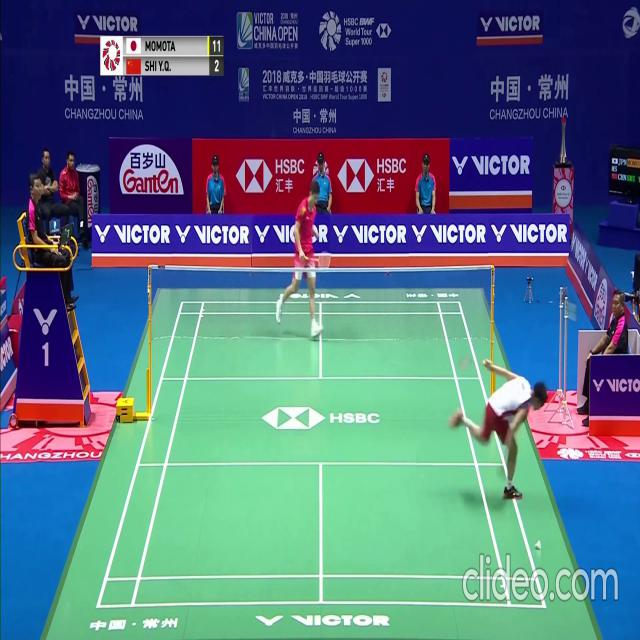Shuttlecock: (536, 543, 541, 551)
